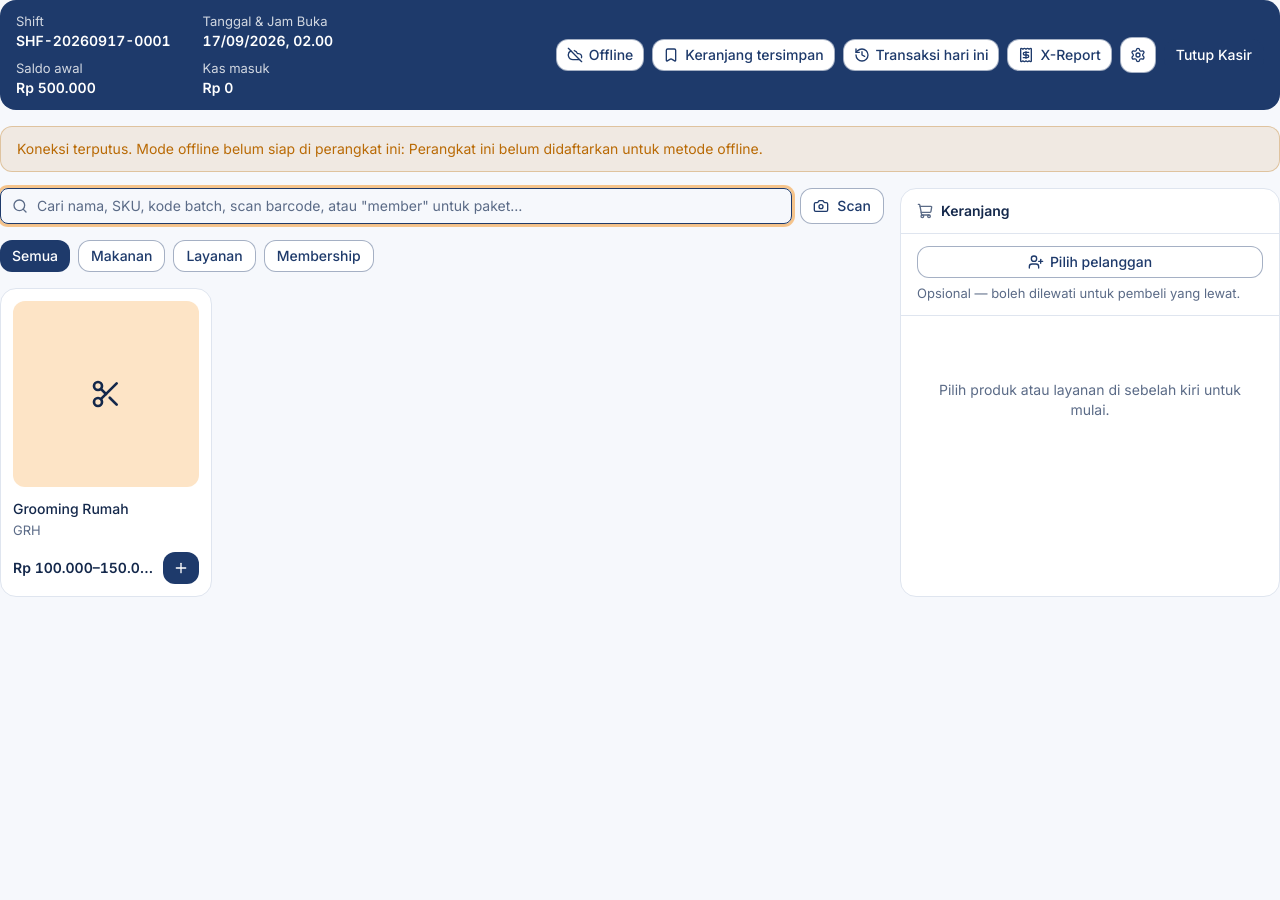
Test: PosServicePetDialog — priced beyond the animal › asks the Lokasi of a service with a staff card, and holds the button until it is chosen
Click the button "Pilih pelanggan".
click(1090, 262)  # box [917, 246, 1263, 278]
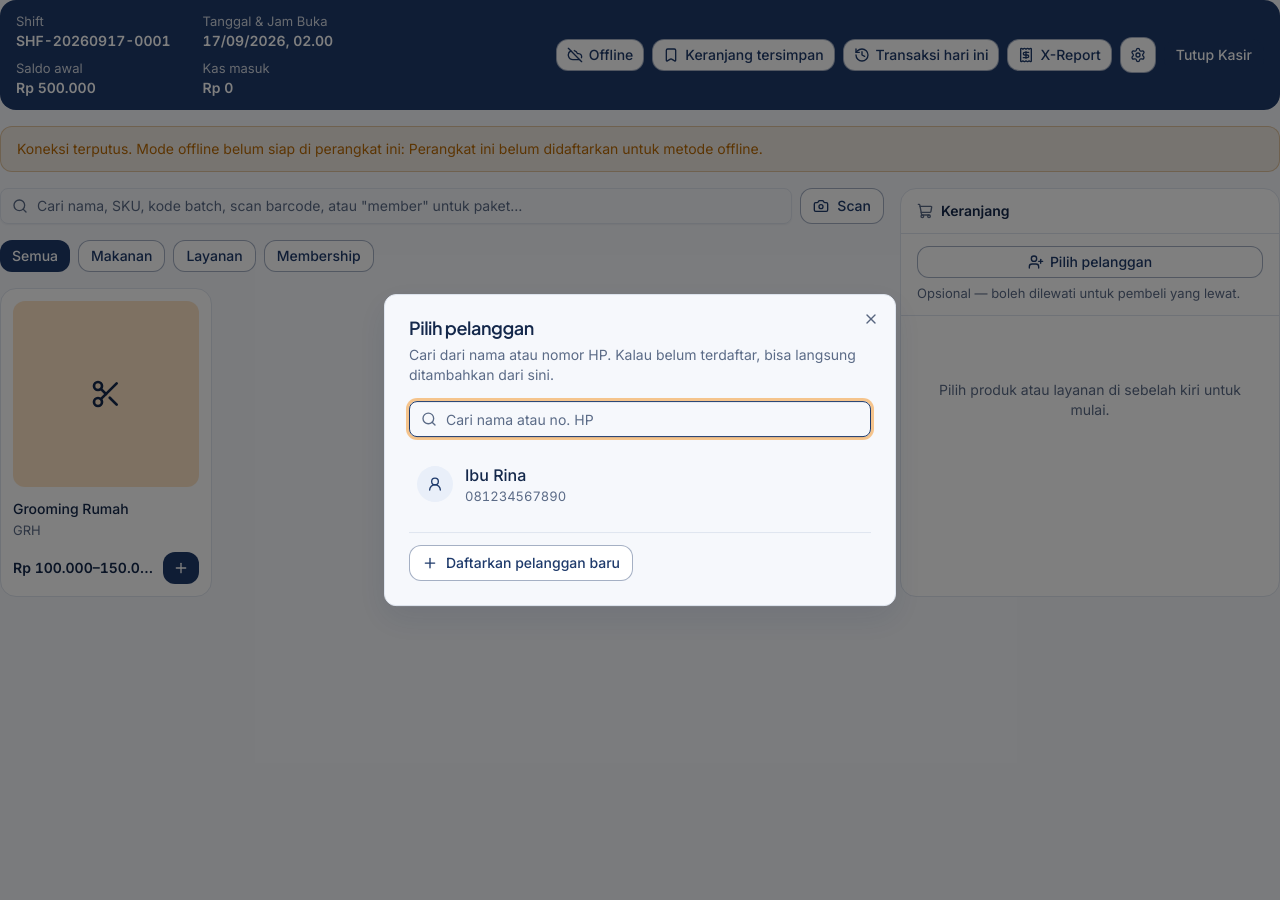
Click the text "Ibu Rina".
click(496, 475)  # box [465, 465, 526, 485]
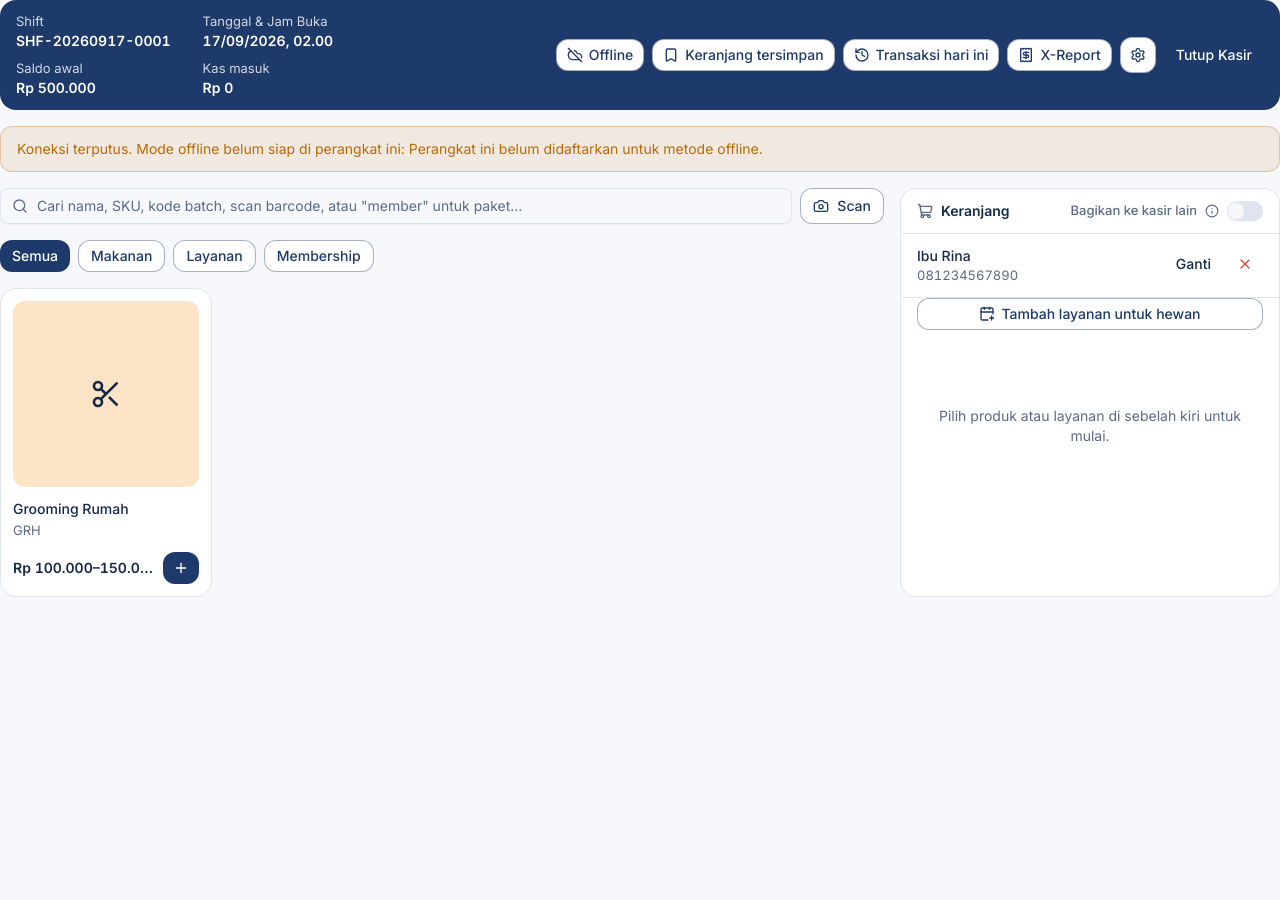
Click the button named "grooming rumah".
click(181, 568)  # box [163, 552, 199, 584]
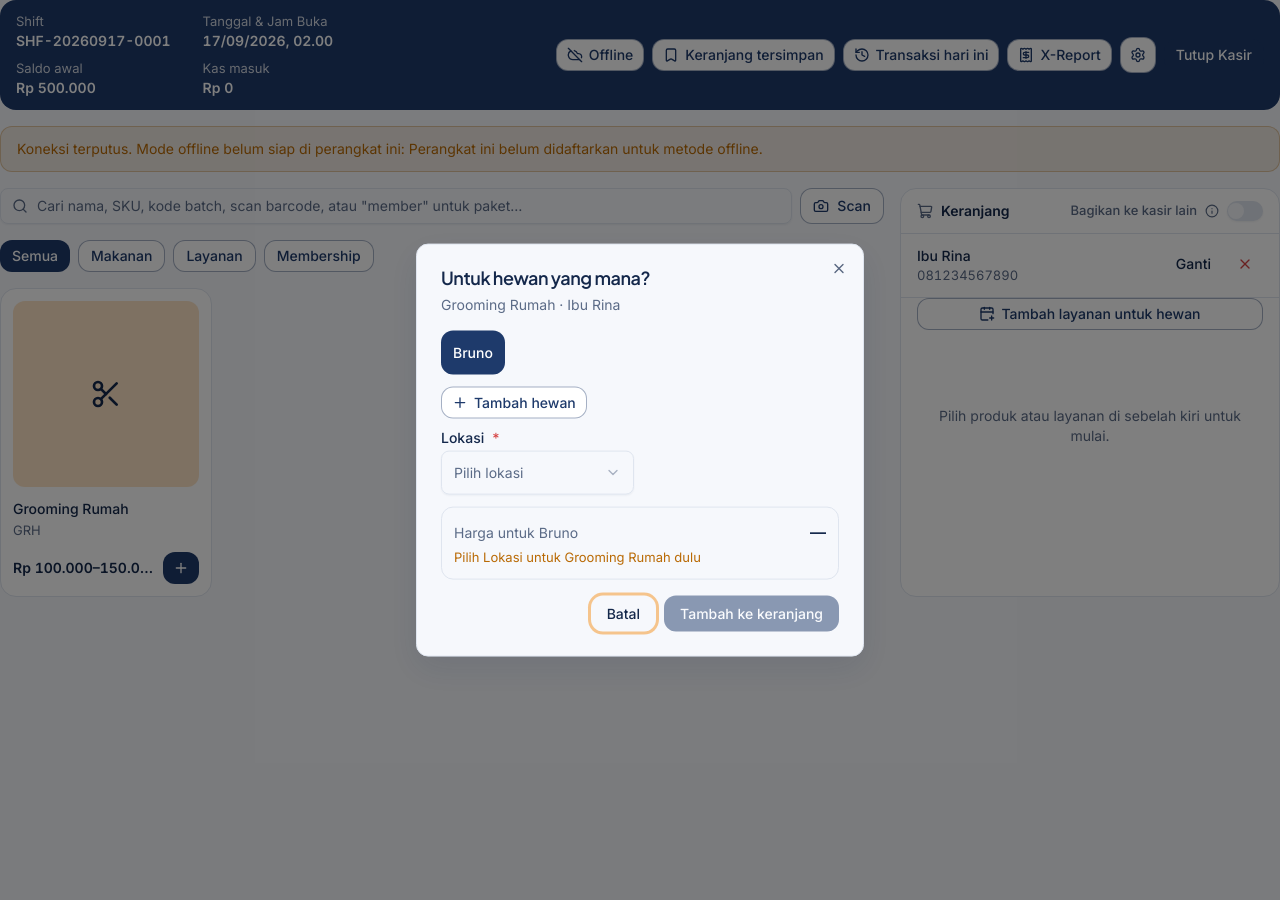
Now the heading "Untuk hewan yang mana?" is shown, box [441, 266, 650, 289]
Now the dropdown labelled "lokasi" is shown, box [441, 451, 634, 495]
Now the text "Pilih Lokasi untuk Grooming Rumah dulu" is shown, box [454, 549, 701, 565]
